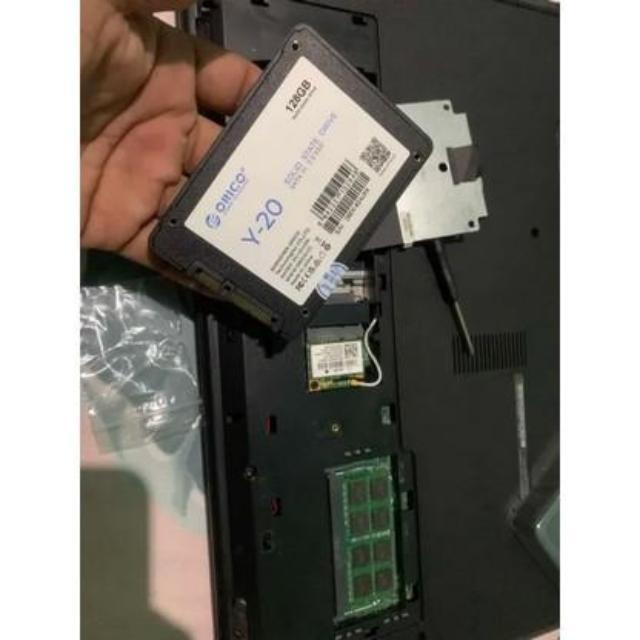DISK: (150, 25, 436, 338)
